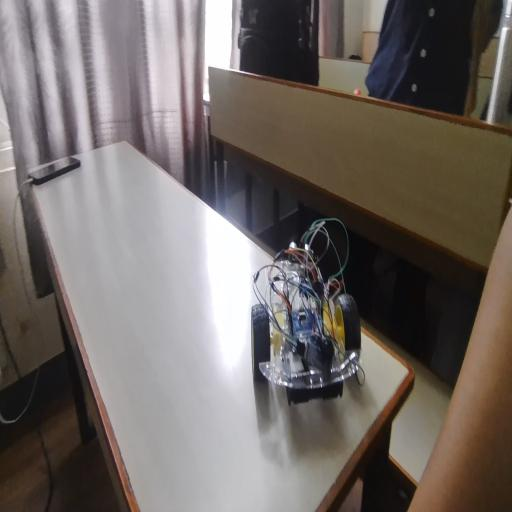car: (256, 229, 378, 415)
